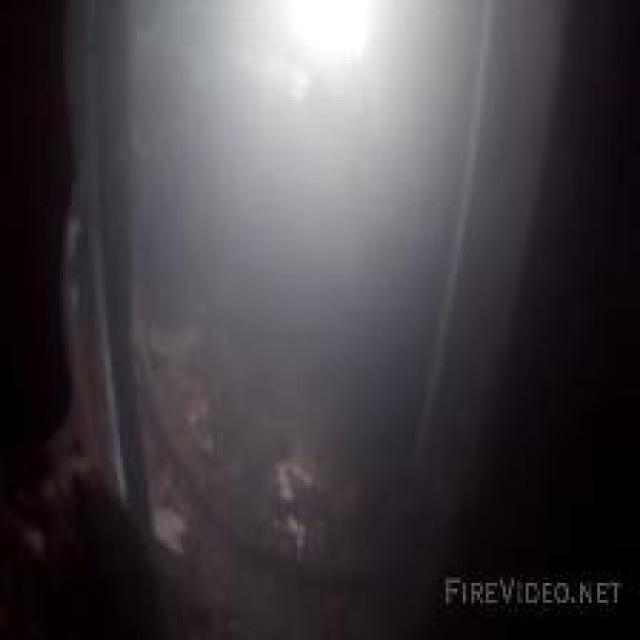other: (241, 2, 410, 99)
